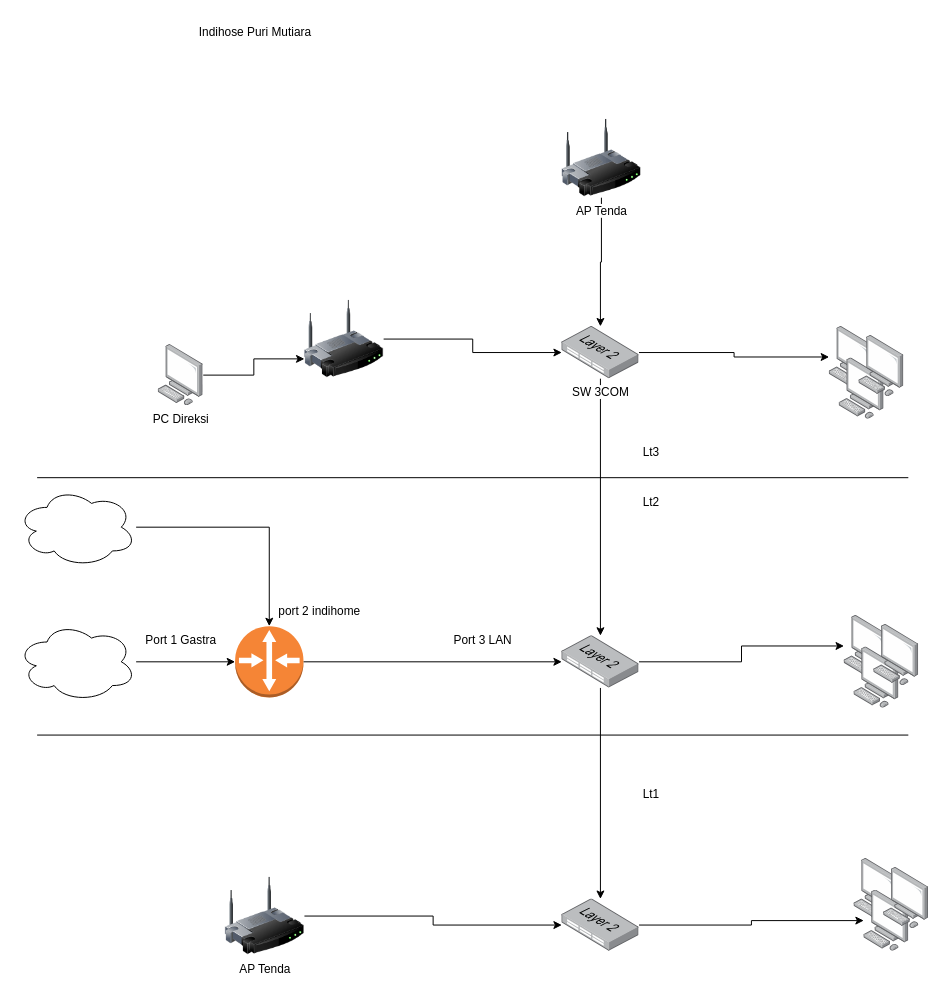
The diagram is 946 pixels wide and 993 high, and some of its shapes have lost their labels. The shapes that lost their labels are listed below. From the top down, each one's centre as x and y in pixels, then its label:
At pixel 343 338: "AP TPLink".
At pixel 268 661: "Mikrotik750".
